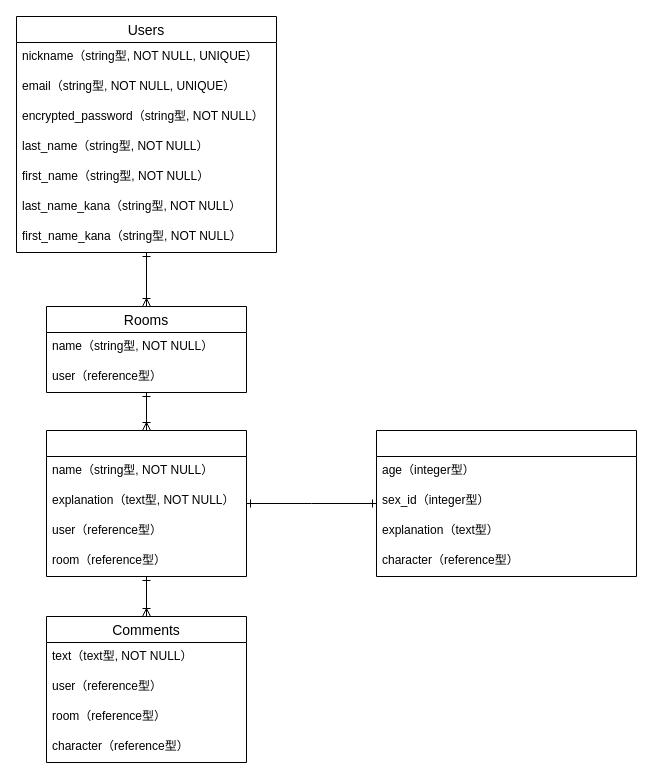
This 653x779 diagram has some shape labels left out. Each missing label, with the box of its shape:
Characters: (46, 430, 246, 576)
Profiles: (376, 430, 636, 576)
